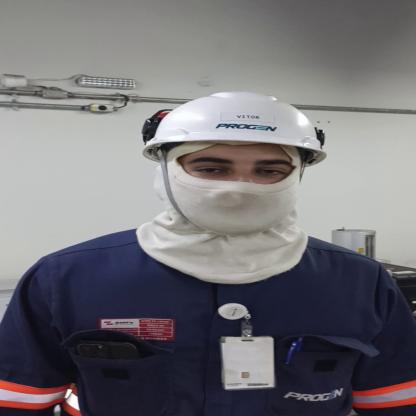Balaclava: (119, 144, 322, 284)
Capacete: (128, 89, 343, 168)
